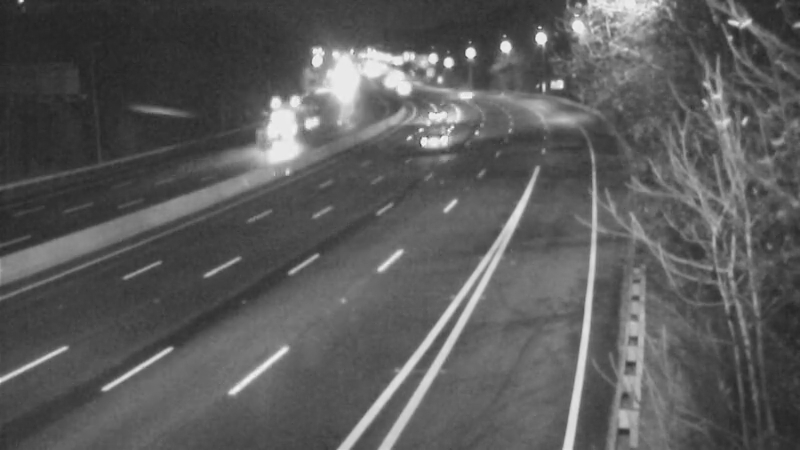vehicle: (438, 68, 488, 118), (414, 87, 464, 137), (419, 110, 469, 160), (273, 112, 323, 162)
